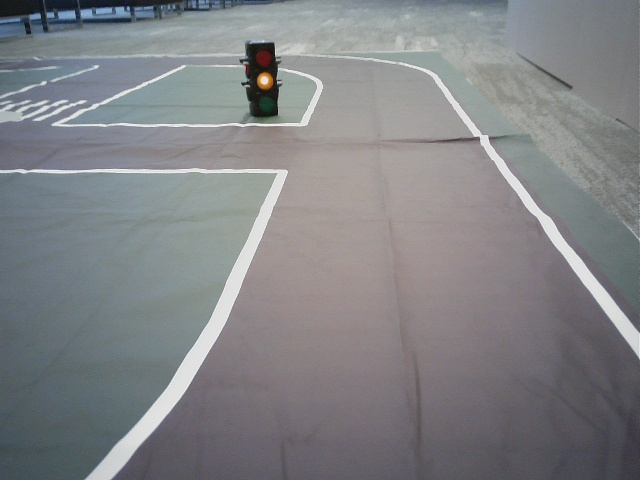yellow: (249, 44, 277, 114)
